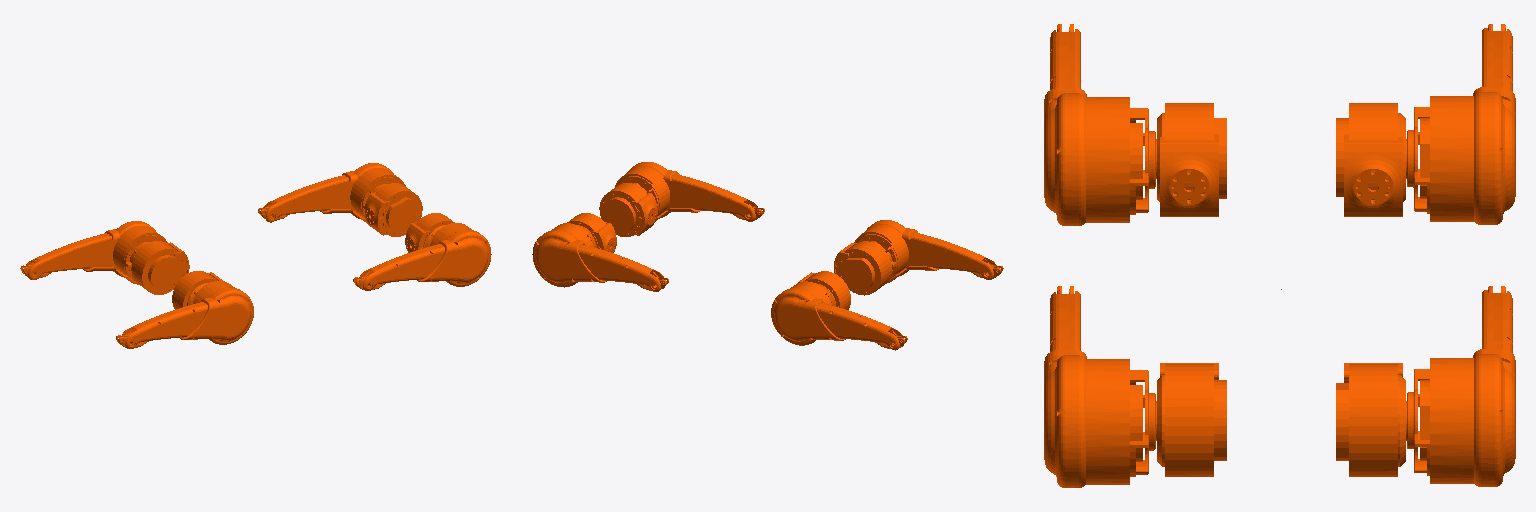
--- Render facts (derived) ---
The picture shows the robot from 3 angles, left to right: view 1: azimuth 30°, elevation 25°; view 2: azimuth 150°, elevation 25°; view 3: azimuth 270°, elevation 25°; orthographic projection.
Model jamal_description with 24 links and 23 joints (12 revolute, 11 fixed), rooted at world, posed every joint at zero.
Visible links, largest first — view 1: upper3, upper2, upper1, upper0, hip0, hip1, hip2, hip3; view 2: upper0, upper1, upper3, upper2, hip2, hip3, hip0, hip1; view 3: upper2, upper3, upper1, upper0, hip3, hip2, hip1, hip0.
Link boxes in pixels (left/top/right/bottom): upper3: left=122, top=281, right=253, bottom=348; upper2: left=359, top=223, right=491, bottom=290; upper1: left=25, top=221, right=167, bottom=284; upper0: left=263, top=163, right=405, bottom=224; hip0: left=365, top=183, right=422, bottom=236; hip1: left=131, top=241, right=189, bottom=294; hip2: left=405, top=213, right=454, bottom=252; hip3: left=172, top=271, right=224, bottom=308; upper0: left=532, top=223, right=664, bottom=291; upper1: left=771, top=281, right=903, bottom=350; upper3: left=854, top=220, right=996, bottom=283; upper2: left=615, top=162, right=757, bottom=221; hip2: left=599, top=183, right=657, bottom=236; hip3: left=834, top=241, right=891, bottom=295; hip0: left=567, top=213, right=616, bottom=252; hip1: left=798, top=271, right=850, bottom=309; upper2: left=1044, top=291, right=1155, bottom=487; upper3: left=1044, top=29, right=1155, bottom=225; upper1: left=1407, top=28, right=1515, bottom=224; upper0: left=1407, top=290, right=1515, bottom=486; hip3: left=1156, top=103, right=1226, bottom=216; hip2: left=1156, top=363, right=1226, bottom=476; hip1: left=1336, top=103, right=1406, bottom=216; hip0: left=1336, top=363, right=1406, bottom=476.
Bounding box of the posed robot: 0.8496 × 0.4102 × 0.1166 m (x, y, z).
Meshes: 5 distinct files referenced, 12 mesh visuals loaded (4 Collada DAE); not drawn: 1 (reference not matched to a file when rendering).

robot.urdf — jamal_description:
<?xml version="1.0" ?>
<!-- =================================================================================== -->
<!-- |    This document was autogenerated by xacro from robot.xacro                    | -->
<!-- |    EDITING THIS FILE BY HAND IS NOT RECOMMENDED                                 | -->
<!-- =================================================================================== -->
<robot name="jamal_description">
  <!-- offset of link and rotor locations (left front) -->
  <!-- <xacro:property name="hip_offset_x" value="0.2699"/>
    <xacro:property name="hip_offset_y" value="0.08028"/>
    <xacro:property name="hip_offset_z" value="0.0"/>
    <xacro:property name="hip_rotor_offset_x" value="0.2119"/>
    <xacro:property name="hip_rotor_offset_y" value="0.08028"/>
    <xacro:property name="hip_rotor_offset_z" value="0.0"/>

    <xacro:property name="thigh_offset_x" value="0"/>
    <xacro:property name="thigh_offset_y" value="0.10755"/>
    <xacro:property name="thigh_offset_z" value="0.0"/>
    <xacro:property name="thigh_rotor_offset_x" value="0.0"/>
    <xacro:property name="thigh_rotor_offset_y" value="-0.0295"/>
    <xacro:property name="thigh_rotor_offset_z" value="0.0"/>

    <xacro:property name="calf_offset_x" value="0.0"/>
    <xacro:property name="calf_offset_y" value="0.0"/>
    <xacro:property name="calf_offset_z" value="-0.225"/>
    <xacro:property name="calf_rotor_offset_x" value="0.0"/>
    <xacro:property name="calf_rotor_offset_y" value="0.0"/>
    <xacro:property name="calf_rotor_offset_z" value="0.0"/> -->
  <material name="black">
    <color rgba="0.0 0.0 0.0 1.0"/>
  </material>
  <material name="blue">
    <color rgba="0.0 0.0 0.8 1.0"/>
  </material>
  <material name="green">
    <color rgba="0.0 0.8 0.0 1.0"/>
  </material>
  <material name="grey">
    <color rgba="0.2 0.2 0.2 1.0"/>
  </material>
  <material name="silver">
    <color rgba="0.9137254901960784 0.9137254901960784 0.8470588235294118 1.0"/>
  </material>
  <material name="orange">
    <color rgba="1.0 0.4235294117647059 0.0392156862745098 1.0"/>
  </material>
  <material name="brown">
    <color rgba="0.8705882352941177 0.8117647058823529 0.7647058823529411 1.0"/>
  </material>
  <material name="red">
    <color rgba="0.8 0.0 0.0 1.0"/>
  </material>
  <material name="white">
    <color rgba="1.0 1.0 1.0 1.0"/>
  </material>
  <!-- ros_control plugin -->
  <gazebo>
    <plugin filename="libgazebo_ros_control.so" name="gazebo_ros_control">
      <robotNamespace>/jamal</robotNamespace>
      <robotSimType>gazebo_ros_control/DefaultRobotHWSim</robotSimType>
    </plugin>
    <plugin filename="libground_truth_estimator.so" name="ground_truth_estimator">
      <updateRateHZ>500.0</updateRateHZ>
    </plugin>
  </gazebo>
  <!-- Show the trajectory of trunk center. -->
  <!-- <gazebo>
        <plugin name="3dplot" filename="libLinkPlot3DPlugin.so">
            <frequency>10</frequency>
            <plot>
                <link>body</link>
                <pose>0 0 0 0 0 0</pose>
                <material>Gazebo/Yellow</material>
            </plot>
        </plugin>
    </gazebo> -->
  <!-- Show the trajectory of foot. You can add another trajectory about another foot. -->
  <!-- <gazebo>
        <plugin name="3dplot" filename="libLinkPlot3DPlugin.so">
            <frequency>100</frequency>
            <plot>
                <link>FL_foot</link>
                <pose>0 0 0 0 0 0</pose>
                <material>Gazebo/Green</material>
            </plot>
        </plugin>
    </gazebo> -->
  <gazebo>
    <plugin filename="libgazebo_ros_force.so" name="gazebo_ros_force">
      <bodyName>trunk</bodyName>
      <topicName>/apply_force/trunk</topicName>
    </plugin>
  </gazebo>
  <gazebo reference="imu_link">
    <gravity>true</gravity>
    <sensor name="imu_sensor" type="imu">
      <always_on>true</always_on>
      <update_rate>1000</update_rate>
      <visualize>true</visualize>
      <topic>__default_topic__</topic>
      <plugin filename="libgazebo_ros_imu_sensor.so" name="imu_plugin">
        <topicName>trunk_imu</topicName>
        <bodyName>imu_link</bodyName>
        <updateRateHZ>1000.0</updateRateHZ>
        <gaussianNoise>0.0</gaussianNoise>
        <xyzOffset>0 0 0</xyzOffset>
        <rpyOffset>0 0 0</rpyOffset>
        <frameName>imu_link</frameName>
      </plugin>
      <pose>0 0 0 0 0 0</pose>
    </sensor>
  </gazebo>
  <!-- Foot contacts. -->
  <!-- <gazebo reference="lower0">
        <sensor name="FR_foot_contact" type="contact">
        <update_rate>100</update_rate>
        <plugin name="contactPlugin" filename="libunitreeFootContactPlugin.so"/>
        <contact>
            <collision>FR_calf_fixed_joint_lump__FR_foot_collision_1</collision>
        </contact>
        </sensor>
    </gazebo>
    <gazebo reference="lower1">
        <sensor name="FL_foot_contact" type="contact">
        <update_rate>100</update_rate>
        <plugin name="contactPlugin" filename="libunitreeFootContactPlugin.so"/>
        <contact>
            <collision>FL_calf_fixed_joint_lump__FL_foot_collision_1</collision>
        </contact>
        </sensor>
    </gazebo>
    <gazebo reference="lower2">
        <sensor name="RR_foot_contact" type="contact">
        <update_rate>100</update_rate>
        <plugin name="contactPlugin" filename="libunitreeFootContactPlugin.so"/>
        <contact>
            <collision>RR_calf_fixed_joint_lump__RR_foot_collision_1</collision>
        </contact>
        </sensor>
    </gazebo>
    <gazebo reference="lower3">
        <sensor name="RL_foot_contact" type="contact">
        <update_rate>100</update_rate>
        <plugin name="contactPlugin" filename="libunitreeFootContactPlugin.so"/>
        <contact>
            <collision>RL_calf_fixed_joint_lump__RL_foot_collision_1</collision>
        </contact>
        </sensor>
    </gazebo> -->
  <gazebo reference="toe0">
    <sensor name="toe0_contact" type="contact">
      <plugin filename="libgazebo_ros_bumper.so" name="toe0_plugin">
        <alwaysOn>true</alwaysOn>
        <updateRate>500</updateRate>
        <bumperTopicName>gazebo/toe0_contact_state</bumperTopicName>
        <frameName>world</frameName>
      </plugin>
      <contact>
        <collision>toe0_collision</collision>
      </contact>
      <update_rate>500</update_rate>
    </sensor>
  </gazebo>
  <gazebo reference="toe1">
    <sensor name="toe1_contact" type="contact">
      <plugin filename="libgazebo_ros_bumper.so" name="toe1_plugin">
        <alwaysOn>true</alwaysOn>
        <updateRate>500</updateRate>
        <bumperTopicName>gazebo/toe1_contact_state</bumperTopicName>
        <frameName>world</frameName>
      </plugin>
      <contact>
        <collision>toe1_collision</collision>
      </contact>
      <update_rate>500</update_rate>
    </sensor>
  </gazebo>
  <gazebo reference="toe2">
    <sensor name="toe2_contact" type="contact">
      <plugin filename="libgazebo_ros_bumper.so" name="toe2_plugin">
        <alwaysOn>true</alwaysOn>
        <updateRate>500</updateRate>
        <bumperTopicName>gazebo/toe2_contact_state</bumperTopicName>
        <frameName>world</frameName>
      </plugin>
      <contact>
        <collision>toe2_collision</collision>
      </contact>
      <update_rate>500</update_rate>
    </sensor>
  </gazebo>
  <gazebo reference="toe3">
    <sensor name="toe3_contact" type="contact">
      <plugin filename="libgazebo_ros_bumper.so" name="toe3_plugin">
        <alwaysOn>true</alwaysOn>
        <updateRate>500</updateRate>
        <bumperTopicName>gazebo/toe3_contact_state</bumperTopicName>
        <frameName>world</frameName>
      </plugin>
      <contact>
        <collision>toe3_collision</collision>
      </contact>
      <update_rate>500</update_rate>
    </sensor>
  </gazebo>
  <!-- Visualization of Foot contacts. -->
  <!-- <gazebo reference="toe0">
        <visual>
            <plugin name="drawForcePlugin" filename="libunitreeDrawForcePlugin.so">
                <topicName>FR_foot_contact</topicName>
            </plugin>
        </visual>
    </gazebo>
    <gazebo reference="toe1">
        <visual>
            <plugin name="drawForcePlugin" filename="libunitreeDrawForcePlugin.so">
                <topicName>FL_foot_contact</topicName>
            </plugin>
        </visual>
    </gazebo>
    <gazebo reference="toe2">
        <visual>
            <plugin name="drawForcePlugin" filename="libunitreeDrawForcePlugin.so">
                <topicName>RR_foot_contact</topicName>
            </plugin>
        </visual>
    </gazebo>
    <gazebo reference="toe3">
        <visual>
            <plugin name="drawForcePlugin" filename="libunitreeDrawForcePlugin.so">
                <topicName>RL_foot_contact</topicName>
            </plugin>
        </visual>
    </gazebo> -->
  <gazebo reference="body">
    <material>Gazebo/Green</material>
    <turnGravityOff>false</turnGravityOff>
  </gazebo>
  <gazebo reference="trunk">
    <mu1>0.2</mu1>
    <mu2>0.2</mu2>
    <kp value="1000000.0"/>
    <kd value="1.0"/>
  </gazebo>
  <gazebo reference="stick_link">
    <mu1>0.2</mu1>
    <mu2>0.2</mu2>
    <material>Gazebo/White</material>
  </gazebo>
  <gazebo reference="imu_link">
    <mu1>0.2</mu1>
    <mu2>0.2</mu2>
    <material>Gazebo/Red</material>
  </gazebo>
  <!-- FL leg -->
  <gazebo reference="hip0">
    <mu1>0.2</mu1>
    <mu2>0.2</mu2>
    <material>Gazebo/DarkGrey</material>
  </gazebo>
  <gazebo reference="upper0">
    <mu1>0.2</mu1>
    <mu2>0.2</mu2>
    <self_collide>0</self_collide>
    <material>Gazebo/DarkGrey</material>
    <kp value="1000000.0"/>
    <kd value="1.0"/>
  </gazebo>
  <gazebo reference="lower0">
    <mu1>0.2</mu1>
    <mu2>0.2</mu2>
    <self_collide>0</self_collide>
  </gazebo>
  <gazebo reference="toe0">
    <mu1>0.6</mu1>
    <mu2>0.6</mu2>
    <self_collide>0</self_collide>
    <material>Gazebo/DarkGrey</material>
    <kp value="1000000.0"/>
    <kd value="1.0"/>
  </gazebo>
  <!-- RL leg -->
  <gazebo reference="hip1">
    <mu1>0.2</mu1>
    <mu2>0.2</mu2>
    <material>Gazebo/DarkGrey</material>
  </gazebo>
  <gazebo reference="upper1">
    <mu1>0.2</mu1>
    <mu2>0.2</mu2>
    <self_collide>0</self_collide>
    <material>Gazebo/DarkGrey</material>
    <kp value="1000000.0"/>
    <kd value="1.0"/>
  </gazebo>
  <gazebo reference="lower1">
    <mu1>0.2</mu1>
    <mu2>0.2</mu2>
    <self_collide>0</self_collide>
  </gazebo>
  <gazebo reference="toe1">
    <mu1>0.6</mu1>
    <mu2>0.6</mu2>
    <self_collide>0</self_collide>
    <material>Gazebo/DarkGrey</material>
    <kp value="1000000.0"/>
    <kd value="1.0"/>
  </gazebo>
  <!-- FR leg -->
  <gazebo reference="hip2">
    <mu1>0.2</mu1>
    <mu2>0.2</mu2>
    <material>Gazebo/DarkGrey</material>
  </gazebo>
  <gazebo reference="upper2">
    <mu1>0.2</mu1>
    <mu2>0.2</mu2>
    <self_collide>0</self_collide>
    <material>Gazebo/DarkGrey</material>
    <kp value="1000000.0"/>
    <kd value="1.0"/>
  </gazebo>
  <gazebo reference="lower2">
    <mu1>0.2</mu1>
    <mu2>0.2</mu2>
    <self_collide>0</self_collide>
  </gazebo>
  <gazebo reference="toe2">
    <mu1>0.6</mu1>
    <mu2>0.6</mu2>
    <self_collide>0</self_collide>
    <material>Gazebo/DarkGrey</material>
    <kp value="1000000.0"/>
    <kd value="1.0"/>
  </gazebo>
  <!-- RR leg -->
  <gazebo reference="hip3">
    <mu1>0.2</mu1>
    <mu2>0.2</mu2>
    <material>Gazebo/DarkGrey</material>
  </gazebo>
  <gazebo reference="upper3">
    <mu1>0.2</mu1>
    <mu2>0.2</mu2>
    <self_collide>0</self_collide>
    <material>Gazebo/DarkGrey</material>
    <kp value="1000000.0"/>
    <kd value="1.0"/>
  </gazebo>
  <gazebo reference="lower3">
    <mu1>0.2</mu1>
    <mu2>0.2</mu2>
    <self_collide>0</self_collide>
  </gazebo>
  <gazebo reference="toe3">
    <mu1>0.6</mu1>
    <mu2>0.6</mu2>
    <self_collide>0</self_collide>
    <material>Gazebo/DarkGrey</material>
    <kp value="1000000.0"/>
    <kd value="1.0"/>
  </gazebo>
  <link name="world"/>
  <joint name="base_static_joint" type="fixed">
    <origin rpy="0 0 0" xyz="0 0 0"/>
    <parent link="world"/>
    <child link="body"/>
  </joint>
  <link name="body">
    <visual>
      <origin rpy="0 0 0" xyz="0 0 0"/>
      <geometry>
        <box size="0.001 0.001 0.001"/>
      </geometry>
    </visual>
  </link>
  <joint name="floating_base" type="fixed">
    <origin rpy="0 0 0" xyz="0 0 0"/>
    <parent link="body"/>
    <child link="trunk"/>
  </joint>
  <link name="trunk">
    <visual name="body_visual">
      <origin rpy="0 0 0" xyz="0 0 0"/>
      <geometry>
        <mesh filename="package://jamal_description/meshes/trunk.dae" scale="1 1 1"/>
      </geometry>
      <material name="orange"/>
    </visual>
    <collision name="body_collision">
      <origin rpy="0 0 0" xyz="0 0 0"/>
      <geometry>
        <box size="0.3762 0.0935 0.114"/>
      </geometry>
    </collision>
    <inertial>
      <origin rpy="0 0 0" xyz="0 0 0.0"/>
      <mass value="12.8185384756311"/>
      <inertia ixx="0.0565667940678376" ixy="-8.54731557026013e-06" ixz="3.411601276539e-05" iyy="0.0364645326398335" iyz="-4.86965244292946e-06" izz="0.0737588756462406"/>
    </inertial>
  </link>
  <joint name="imu_joint" type="fixed">
    <parent link="trunk"/>
    <child link="imu_link"/>
    <origin rpy="0 0 0" xyz="0 0 0"/>
  </joint>
  <link name="imu_link">
    <inertial>
      <mass value="0.001"/>
      <origin rpy="0 0 0" xyz="0 0 0"/>
      <inertia ixx="0.0001" ixy="0" ixz="0" iyy="0.0001" iyz="0" izz="0.0001"/>
    </inertial>
    <visual>
      <origin rpy="0 0 0" xyz="0 0 0"/>
      <geometry>
        <box size="0.001 0.001 0.001"/>
      </geometry>
      <material name="red"/>
    </visual>
    <collision>
      <origin rpy="0 0 0" xyz="0 0 0"/>
      <geometry>
        <box size=".001 .001 .001"/>
      </geometry>
    </collision>
  </link>
  <link name="hip0">
    <visual name="hip0_visual">
      <origin rpy="0 0 0" xyz="0 0 0"/>
      <geometry>
        <mesh filename="package://jamal_description/meshes/hip.dae" scale="1 1 1"/>
      </geometry>
      <material name="orange"/>
    </visual>
    <collision name="hip0_collision">
      <origin rpy="1.5707963267948966 0 0" xyz="0 0 0"/>
      <geometry>
        <cylinder length="0.04" radius="0.046"/>
      </geometry>
    </collision>
    <inertial>
      <origin rpy="0 0 0" xyz="0.0 0.0 0.0"/>
      <mass value="0.933762854916433"/>
      <inertia ixx="0.000832273911083319" ixy="2.01742652907359e-06" ixz="-9.96248193966734e-07" iyy="0.00106512043176046" iyz="-3.27660400510853e-06" izz="0.000803680416601427"/>
    </inertial>
  </link>
  <joint name="8" type="revolute">
    <origin rpy="0 0 0" xyz="0.2699 0.08028 0"/>
    <parent link="trunk"/>
    <child link="hip0"/>
    <axis xyz="1 0 0"/>
    <dynamics damping="0.01" friction="0.2"/>
    <limit effort="48" lower="-0.4363323129985824" upper="0.4363323129985824" velocity="8"/>
  </joint>
  <!-- this link is only for collision -->
  <link name="thigh_shoulder0">
    <collision>
      <origin rpy="1.5707963267948966 0 0" xyz="0 0 0"/>
      <geometry>
        <cylinder length="0.032" radius="0.041"/>
      </geometry>
    </collision>
  </link>
  <joint name="hip0_fixed" type="fixed">
    <origin rpy="0 0 0" xyz="0 0.016 0"/>
    <parent link="hip0"/>
    <child link="thigh_shoulder0"/>
  </joint>
  <link name="upper0">
    <visual name="upper0_visual">
      <origin rpy="0 0 0" xyz="0 0 0"/>
      <geometry>
        <mesh filename="package://jamal_description/meshes/thigh.dae" scale="1 1 1"/>
      </geometry>
      <material name="orange"/>
    </visual>
    <collision name="upper0_collision">
      <origin rpy="0 1.5707963267948966 0" xyz="0 0 -0.1125"/>
      <geometry>
        <box size="0.225 0.0245 0.034"/>
      </geometry>
    </collision>
    <inertial>
      <origin rpy="0 0 0" xyz="0.0 0.0 0.0"/>
      <mass value="1.32134262348697"/>
      <inertia ixx="0.00262880898900224" ixy="3.0753036678596e-07" ixz="-6.6121911239445e-05" iyy="0.00316091750463634" iyz="4.01609105247509e-05" izz="0.00121962195056961"/>
    </inertial>
  </link>
  <joint name="0" type="revolute">
    <origin rpy="0 1.5707963267948966 0" xyz="0 0.10755 0"/>
    <parent link="hip0"/>
    <child link="upper0"/>
    <axis xyz="0 -1 0"/>
    <dynamics damping="0.01" friction="0.2"/>
    <limit effort="48" lower="-1.5707963267948966" upper="1.5707963267948966" velocity="8"/>
  </joint>
  <link name="lower0">
    <visual name="lower0_visual">
      <origin rpy="0 0 0" xyz="0 0 0"/>
      <geometry>
        <mesh filename="package://jamal_description/meshes/calf.dae" scale="1 1 1"/>
      </geometry>
      <material name="orange"/>
    </visual>
    <collision name="lower0_collision">
      <origin rpy="0 1.5707963267948966 0" xyz="0 0 -0.125"/>
      <geometry>
        <box size="0.25 0.016 0.016"/>
      </geometry>
    </collision>
    <inertial>
      <origin rpy="0 0 0" xyz="0.0 0.0 0.0"/>
      <mass value="0.12879265462489"/>
      <inertia ixx="0.000445341853265945" ixy="-7.71823686634482e-09" ixz="7.55836697902452e-05" iyy="0.000465686753688402" iyz="4.84096470394828e-09" izz="2.34278965180016e-05"/>
    </inertial>
  </link>
  <joint name="1" type="revolute">
    <origin rpy="0 -3.141592653589793 0" xyz="0 0 -0.225"/>
    <parent link="upper0"/>
    <child link="lower0"/>
    <axis xyz="0 1 0"/>
    <dynamics damping="0.01" friction="0.2"/>
    <limit effort="48" lower="-2.670353755551324" upper="2.670353755551324" velocity="8"/>
  </joint>
  <link name="toe0">
    <visual name="toe0_visual">
      <origin rpy="0 0 0" xyz="0 0 0"/>
      <geometry>
        <sphere radius="0.007000000000000001"/>
      </geometry>
      <material name="orange"/>
    </visual>
    <collision name="toe0_collision">
      <origin rpy="0 0 0" xyz="0 0 0"/>
      <geometry>
        <sphere radius="0.017"/>
      </geometry>
      <surface>
        <bounce>
          <restitution_coefficient>0</restitution_coefficient>
          <threshold>1e+06</threshold>
        </bounce>
        <friction>
          <ode>
            <mu>0.2</mu>
            <mu2>0.2</mu2>
          </ode>
          <bullet>
            <rolling_friction>0.3</rolling_friction>
            <friction2>50</friction2>
          </bullet>
        </friction>
        <contact>
          <ode>
            <kp>30000.0</kp>
            <kd>1000.0</kd>
          </ode>
          <bullet>
            <kp>30000.0</kp>
            <kd>1000.0</kd>
            <split_impulse>1</split_impulse>
            <split_impulse_penetration_threshold>-0.01</split_impulse_penetration_threshold>
          </bullet>
        </contact>
      </surface>
    </collision>
    <inertial>
      <mass value="0.06"/>
      <inertia ixx="6.936000000000001e-06" ixy="0.0" ixz="0.0" iyy="6.936000000000001e-06" iyz="0.0" izz="6.936000000000001e-06"/>
    </inertial>
  </link>
  <joint name="jtoe0" type="fixed">
    <origin rpy="0 0 0" xyz="0 0 -0.25"/>
    <parent link="lower0"/>
    <child link="toe0"/>
  </joint>
  <transmission name="transmission_8">
    <type>transmission_interface/SimpleTransmission</type>
    <joint name="8">
      <hardwareInterface>hardware_interface/EffortJointInterface</hardwareInterface>
    </joint>
    <actuator name="motor_8">
      <hardwareInterface>EffortJointInterface</hardwareInterface>
      <mechanicalReduction>1</mechanicalReduction>
    </actuator>
  </transmission>
  <transmission name="transmission_0">
    <type>transmission_interface/SimpleTransmission</type>
    <joint name="0">
      <hardwareInterface>hardware_interface/EffortJointInterface</hardwareInterface>
    </joint>
    <actuator name="motor_0">
      <hardwareInterface>EffortJointInterface</hardwareInterface>
      <mechanicalReduction>1</mechanicalReduction>
    </actuator>
  </transmission>
  <transmission name="transmission_1">
    <type>transmission_interface/SimpleTransmission</type>
    <joint name="1">
      <hardwareInterface>hardware_interface/EffortJointInterface</hardwareInterface>
    </joint>
    <actuator name="motor_1">
      <hardwareInterface>EffortJointInterface</hardwareInterface>
      <mechanicalReduction>1</mechanicalReduction>
    </actuator>
  </transmission>
  <link name="hip1">
    <visual name="hip1_visual">
      <origin rpy="0 3.141592653589793 0" xyz="0 0 0"/>
      <geometry>
        <mesh filename="package://jamal_description/meshes/hip.dae" scale="1 1 1"/>
      </geometry>
      <material name="orange"/>
    </visual>
    <collision name="hip1_collision">
      <origin rpy="1.5707963267948966 0 0" xyz="0 0 0"/>
      <geometry>
        <cylinder length="0.04" radius="0.046"/>
      </geometry>
    </collision>
    <inertial>
      <origin rpy="0 0 0" xyz="-0.0 0.0 0.0"/>
      <mass value="0.933762854916433"/>
      <inertia ixx="0.000832273911083319" ixy="-2.01742652907359e-06" ixz="9.96248193966734e-07" iyy="0.00106512043176046" iyz="-3.27660400510853e-06" izz="0.000803680416601427"/>
    </inertial>
  </link>
  <joint name="9" type="revolute">
    <origin rpy="0 0 0" xyz="-0.2699 0.08028 0"/>
    <parent link="trunk"/>
    <child link="hip1"/>
    <axis xyz="1 0 0"/>
    <dynamics damping="0.01" friction="0.2"/>
    <limit effort="48" lower="-0.4363323129985824" upper="0.4363323129985824" velocity="8"/>
  </joint>
  <!-- this link is only for collision -->
  <link name="thigh_shoulder1">
    <collision>
      <origin rpy="1.5707963267948966 0 0" xyz="0 0 0"/>
      <geometry>
        <cylinder length="0.032" radius="0.041"/>
      </geometry>
    </collision>
  </link>
  <joint name="hip1_fixed" type="fixed">
    <origin rpy="0 0 0" xyz="0 0.016 0"/>
    <parent link="hip1"/>
    <child link="thigh_shoulder1"/>
  </joint>
  <link name="upper1">
    <visual name="upper1_visual">
      <origin rpy="0 0 0" xyz="0 0 0"/>
      <geometry>
        <mesh filename="package://jamal_description/meshes/thigh.dae" scale="1 1 1"/>
      </geometry>
      <material name="orange"/>
    </visual>
    <collision name="upper1_collision">
      <origin rpy="0 1.5707963267948966 0" xyz="0 0 -0.1125"/>
      <geometry>
        <box size="0.225 0.0245 0.034"/>
      </geometry>
    </collision>
    <inertial>
      <origin rpy="0 0 0" xyz="0.0 0.0 0.0"/>
      <mass value="1.32134262348697"/>
      <inertia ixx="0.00262880898900224" ixy="3.0753036678596e-07" ixz="-6.6121911239445e-05" iyy="0.00316091750463634" iyz="4.01609105247509e-05" izz="0.00121962195056961"/>
    </inertial>
  </link>
  <joint name="2" type="revolute">
    <origin rpy="0 1.5707963267948966 0" xyz="0 0.10755 0"/>
    <parent link="hip1"/>
    <child link="upper1"/>
    <axis xyz="0 -1 0"/>
    <dynamics damping="0.01" friction="0.2"/>
    <limit effort="48" lower="-1.5707963267948966" upper="1.5707963267948966" velocity="8"/>
  </joint>
  <link name="lower1">
    <visual name="lower1_visual">
      <origin rpy="0 0 0" xyz="0 0 0"/>
      <geometry>
        <mesh filename="package://jamal_description/meshes/calf.dae" scale="1 1 1"/>
      </geometry>
      <material name="orange"/>
    </visual>
    <collision name="lower1_collision">
      <origin rpy="0 1.5707963267948966 0" xyz="0 0 -0.125"/>
      <geometry>
        <box size="0.25 0.016 0.016"/>
      </geometry>
    </collision>
    <inertial>
      <origin rpy="0 0 0" xyz="0.0 0.0 0.0"/>
      <mass value="0.12879265462489"/>
      <inertia ixx="0.000445341853265945" ixy="-7.71823686634482e-09" ixz="7.55836697902452e-05" iyy="0.000465686753688402" iyz="4.84096470394828e-09" izz="2.34278965180016e-05"/>
    </inertial>
  </link>
  <joint name="3" type="revolute">
    <origin rpy="0 -3.141592653589793 0" xyz="0 0 -0.225"/>
    <parent link="upper1"/>
    <child link="lower1"/>
    <axis xyz="0 1 0"/>
    <dynamics damping="0.01" friction="0.2"/>
    <limit effort="48" lower="-2.670353755551324" upper="2.670353755551324" velocity="8"/>
  </joint>
  <link name="toe1">
    <visual name="toe1_visual">
      <origin rpy="0 0 0" xyz="0 0 0"/>
      <geometry>
        <sphere radius="0.007000000000000001"/>
      </geometry>
      <material name="orange"/>
    </visual>
    <collision name="toe1_collision">
      <origin rpy="0 0 0" xyz="0 0 0"/>
      <geometry>
        <sphere radius="0.017"/>
      </geometry>
      <surface>
        <bounce>
          <restitution_coefficient>0</restitution_coefficient>
          <threshold>1e+06</threshold>
        </bounce>
        <friction>
          <ode>
            <mu>0.2</mu>
            <mu2>0.2</mu2>
          </ode>
          <bullet>
            <rolling_friction>0.3</rolling_friction>
            <friction2>50</friction2>
          </bullet>
        </friction>
        <contact>
          <ode>
            <kp>30000.0</kp>
            <kd>1000.0</kd>
          </ode>
          <bullet>
            <kp>30000.0</kp>
            <kd>1000.0</kd>
            <split_impulse>1</split_impulse>
            <split_impulse_penetration_threshold>-0.01</split_impulse_penetration_threshold>
          </bullet>
        </contact>
      </surface>
    </collision>
    <inertial>
      <mass value="0.06"/>
      <inertia ixx="6.936000000000001e-06" ixy="0.0" ixz="0.0" iyy="6.936000000000001e-06" iyz="0.0" izz="6.936000000000001e-06"/>
    </inertial>
  </link>
  <joint name="jtoe1" type="fixed">
    <origin rpy="0 0 0" xyz="0 0 -0.25"/>
    <parent link="lower1"/>
    <child link="toe1"/>
  </joint>
  <transmission name="transmission_9">
    <type>transmission_interface/SimpleTransmission</type>
    <joint name="9">
      <hardwareInterface>hardware_interface/EffortJointInterface</hardwareInterface>
    </joint>
    <actuator name="motor_9">
      <hardwareInterface>EffortJointInterface</hardwareInterface>
      <mechanicalReduction>1</mechanicalReduction>
    </actuator>
  </transmission>
  <transmission name="transmission_2">
    <type>transmission_interface/SimpleTransmission</type>
    <joint name="2">
      <hardwareInterface>hardware_interface/EffortJointInterface</hardwareInterface>
    </joint>
    <actuator name="motor_2">
      <hardwareInterface>EffortJointInterface</hardwareInterface>
      <mechanicalReduction>1</mechanicalReduction>
    </actuator>
  </transmission>
  <transmission name="transmission_3">
    <type>transmission_interface/SimpleTransmission</type>
    <joint name="3">
      <hardwareInterface>hardware_interface/EffortJointInterface</hardwareInterface>
    </joint>
    <actuator name="motor_3">
      <hardwareInterface>EffortJointInterface</hardwareInterface>
      <mechanicalReduction>1</mechanicalReduction>
    </actuator>
  </transmission>
  <link name="hip2">
    <visual name="hip2_visual">
      <origin rpy="3.141592653589793 0 0" xyz="0 0 0"/>
      <geometry>
        <mesh filename="package://jamal_description/meshes/hip.dae" scale="1 1 1"/>
      </geometry>
      <material name="orange"/>
    </visual>
    <collision name="hip2_collision">
      <origin rpy="1.5707963267948966 0 0" xyz="0 0 0"/>
      <geometry>
        <cylinder length="0.04" radius="0.046"/>
      </geometry>
    </collision>
    <inertial>
      <origin rpy="0 0 0" xyz="0.0 -0.0 0.0"/>
      <mass value="0.933762854916433"/>
      <inertia ixx="0.000832273911083319" ixy="-2.01742652907359e-06" ixz="-9.96248193966734e-07" iyy="0.00106512043176046" iyz="3.27660400510853e-06" izz="0.000803680416601427"/>
    </inertial>
  </link>
  <joint name="10" type="revolute">
    <origin rpy="0 0 0" xyz="0.2699 -0.08028 0"/>
    <parent link="trunk"/>
    <child link="hip2"/>
    <axis xyz="1 0 0"/>
    <dynamics damping="0.01" friction="0.2"/>
    <limit effort="48" lower="-0.4363323129985824" upper="0.4363323129985824" velocity="8"/>
  </joint>
  <!-- this link is only for collision -->
  <link name="thigh_shoulder2">
    <collision>
      <origin rpy="1.5707963267948966 0 0" xyz="0 0 0"/>
      <geometry>
        <cylinder length="0.032" radius="0.041"/>
      </geometry>
    </collision>
  </link>
  <joint name="hip2_fixed" type="fixed">
    <origin rpy="0 0 0" xyz="0 -0.016 0"/>
    <parent link="hip2"/>
    <child link="thigh_shoulder2"/>
  </joint>
  <link name="upper2">
    <visual name="upper2_visual">
      <origin rpy="0 0 0" xyz="0 0 0"/>
      <geometry>
        <mesh filename="package://jamal_description/meshes/thigh_mirror.dae" scale="1 1 1"/>
      </geometry>
      <material name="orange"/>
    </visual>
    <collision name="upper2_collision">
      <origin rpy="0 1.5707963267948966 0" xyz="0 0 -0.1125"/>
      <geometry>
        <box size="0.225 0.0245 0.034"/>
      </geometry>
    </collision>
    <inertial>
      <origin rpy="0 0 0" xyz="0.0 -0.0 0.0"/>
      <mass value="1.32134262348697"/>
      <inertia ixx="0.00262880898900224" ixy="-3.0753036678596e-07" ixz="-6.6121911239445e-05" iyy="0.00316091750463634" iyz="-4.01609105247509e-05" izz="0.00121962195056961"/>
    </inertial>
  </link>
  <joint name="4" type="revolute">
    <origin rpy="0 1.5707963267948966 0" xyz="0 -0.10755 0"/>
    <parent link="hip2"/>
    <child link="upper2"/>
    <axis xyz="0 -1 0"/>
    <dynamics damping="0.01" friction="0.2"/>
    <limit effort="48" lower="-1.5707963267948966" upper="1.5707963267948966" velocity="8"/>
  </joint>
  <link name="lower2">
    <visual name="lower2_visual">
      <origin rpy="0 0 0" xyz="0 0 0"/>
      <geometry>
        <mesh filename="package://jamal_description/meshes/calf.dae" scale="1 1 1"/>
      </geometry>
      <material name="orange"/>
    </visual>
    <collision name="lower2_collision">
      <origin rpy="0 1.5707963267948966 0" xyz="0 0 -0.125"/>
      <geometry>
        <box size="0.25 0.016 0.016"/>
      </geometry>
    </collision>
    <inertial>
      <origin rpy="0 0 0" xyz="0.0 0.0 0.0"/>
      <mass value="0.12879265462489"/>
      <inertia ixx="0.000445341853265945" ixy="-7.71823686634482e-09" ixz="7.55836697902452e-05" iyy="0.000465686753688402" iyz="4.84096470394828e-09" izz="2.34278965180016e-05"/>
    </inertial>
  </link>
  <joint name="5" type="revolute">
    <origin rpy="0 -3.141592653589793 0" xyz="0 0 -0.225"/>
    <parent link="upper2"/>
    <child link="lower2"/>
    <axis xyz="0 1 0"/>
    <dynamics damping="0.01" friction="0.2"/>
    <limit effort="48" lower="-2.670353755551324" upper="2.670353755551324" velocity="8"/>
  </joint>
  <link name="toe2">
    <visual name="toe2_visual">
      <origin rpy="0 0 0" xyz="0 0 0"/>
      <geometry>
        <sphere radius="0.007000000000000001"/>
      </geometry>
      <material name="orange"/>
    </visual>
    <collision name="toe2_collision">
      <origin rpy="0 0 0" xyz="0 0 0"/>
      <geometry>
        <sphere radius="0.017"/>
      </geometry>
      <surface>
        <bounce>
          <restitution_coefficient>0</restitution_coefficient>
          <threshold>1e+06</threshold>
        </bounce>
        <friction>
          <ode>
            <mu>0.2</mu>
            <mu2>0.2</mu2>
          </ode>
          <bullet>
            <rolling_friction>0.3</rolling_friction>
            <friction2>50</friction2>
          </bullet>
        </friction>
        <contact>
          <ode>
            <kp>30000.0</kp>
            <kd>1000.0</kd>
          </ode>
          <bullet>
            <kp>30000.0</kp>
            <kd>1000.0</kd>
            <split_impulse>1</split_impulse>
            <split_impulse_penetration_threshold>-0.01</split_impulse_penetration_threshold>
          </bullet>
        </contact>
      </surface>
    </collision>
    <inertial>
      <mass value="0.06"/>
      <inertia ixx="6.936000000000001e-06" ixy="0.0" ixz="0.0" iyy="6.936000000000001e-06" iyz="0.0" izz="6.936000000000001e-06"/>
    </inertial>
  </link>
  <joint name="jtoe2" type="fixed">
    <origin rpy="0 0 0" xyz="0 0 -0.25"/>
    <parent link="lower2"/>
    <child link="toe2"/>
  </joint>
  <transmission name="transmission_10">
    <type>transmission_interface/SimpleTransmission</type>
    <joint name="10">
      <hardwareInterface>hardware_interface/EffortJointInterface</hardwareInterface>
    </joint>
    <actuator name="motor_10">
      <hardwareInterface>EffortJointInterface</hardwareInterface>
      <mechanicalReduction>1</mechanicalReduction>
    </actuator>
  </transmission>
  <transmission name="transmission_4">
    <type>transmission_interface/SimpleTransmission</type>
    <joint name="4">
      <hardwareInterface>hardware_interface/EffortJointInterface</hardwareInterface>
    </joint>
    <actuator name="motor_4">
      <hardwareInterface>EffortJointInterface</hardwareInterface>
      <mechanicalReduction>1</mechanicalReduction>
    </actuator>
  </transmission>
  <transmission name="transmission_5">
    <type>transmission_interface/SimpleTransmission</type>
    <joint name="5">
      <hardwareInterface>hardware_interface/EffortJointInterface</hardwareInterface>
    </joint>
    <actuator name="motor_5">
      <hardwareInterface>EffortJointInterface</hardwareInterface>
      <mechanicalReduction>1</mechanicalReduction>
    </actuator>
  </transmission>
  <link name="hip3">
    <visual name="hip3_visual">
      <origin rpy="3.141592653589793 3.141592653589793 0" xyz="0 0 0"/>
      <geometry>
        <mesh filename="package://jamal_description/meshes/hip.dae" scale="1 1 1"/>
      </geometry>
      <material name="orange"/>
    </visual>
    <collision name="hip3_collision">
      <origin rpy="1.5707963267948966 0 0" xyz="0 0 0"/>
      <geometry>
        <cylinder length="0.04" radius="0.046"/>
      </geometry>
    </collision>
    <inertial>
      <origin rpy="0 0 0" xyz="-0.0 -0.0 0.0"/>
      <mass value="0.933762854916433"/>
      <inertia ixx="0.000832273911083319" ixy="2.01742652907359e-06" ixz="9.96248193966734e-07" iyy="0.00106512043176046" iyz="3.27660400510853e-06" izz="0.000803680416601427"/>
    </inertial>
  </link>
  <joint name="11" type="revolute">
    <origin rpy="0 0 0" xyz="-0.2699 -0.08028 0"/>
    <parent link="trunk"/>
    <child link="hip3"/>
    <axis xyz="1 0 0"/>
    <dynamics damping="0.01" friction="0.2"/>
    <limit effort="48" lower="-0.4363323129985824" upper="0.4363323129985824" velocity="8"/>
  </joint>
  <!-- this link is only for collision -->
  <link name="thigh_shoulder3">
    <collision>
      <origin rpy="1.5707963267948966 0 0" xyz="0 0 0"/>
      <geometry>
        <cylinder length="0.032" radius="0.041"/>
      </geometry>
    </collision>
  </link>
  <joint name="hip3_fixed" type="fixed">
    <origin rpy="0 0 0" xyz="0 -0.016 0"/>
    <parent link="hip3"/>
    <child link="thigh_shoulder3"/>
  </joint>
  <link name="upper3">
    <visual name="upper3_visual">
      <origin rpy="0 0 0" xyz="0 0 0"/>
      <geometry>
        <mesh filename="package://jamal_description/meshes/thigh_mirror.dae" scale="1 1 1"/>
      </geometry>
      <material name="orange"/>
    </visual>
    <collision name="upper3_collision">
      <origin rpy="0 1.5707963267948966 0" xyz="0 0 -0.1125"/>
      <geometry>
        <box size="0.225 0.0245 0.034"/>
      </geometry>
    </collision>
    <inertial>
      <origin rpy="0 0 0" xyz="0.0 -0.0 0.0"/>
      <mass value="1.32134262348697"/>
      <inertia ixx="0.00262880898900224" ixy="-3.0753036678596e-07" ixz="-6.6121911239445e-05" iyy="0.00316091750463634" iyz="-4.01609105247509e-05" izz="0.00121962195056961"/>
    </inertial>
  </link>
  <joint name="6" type="revolute">
    <origin rpy="0 1.5707963267948966 0" xyz="0 -0.10755 0"/>
    <parent link="hip3"/>
    <child link="upper3"/>
    <axis xyz="0 -1 0"/>
    <dynamics damping="0.01" friction="0.2"/>
    <limit effort="48" lower="-1.5707963267948966" upper="1.5707963267948966" velocity="8"/>
  </joint>
  <link name="lower3">
    <visual name="lower3_visual">
      <origin rpy="0 0 0" xyz="0 0 0"/>
      <geometry>
        <mesh filename="package://jamal_description/meshes/calf.dae" scale="1 1 1"/>
      </geometry>
      <material name="orange"/>
    </visual>
    <collision name="lower3_collision">
      <origin rpy="0 1.5707963267948966 0" xyz="0 0 -0.125"/>
      <geometry>
        <box size="0.25 0.016 0.016"/>
      </geometry>
    </collision>
    <inertial>
      <origin rpy="0 0 0" xyz="0.0 0.0 0.0"/>
      <mass value="0.12879265462489"/>
      <inertia ixx="0.000445341853265945" ixy="-7.71823686634482e-09" ixz="7.55836697902452e-05" iyy="0.000465686753688402" iyz="4.84096470394828e-09" izz="2.34278965180016e-05"/>
    </inertial>
  </link>
  <joint name="7" type="revolute">
    <origin rpy="0 -3.141592653589793 0" xyz="0 0 -0.225"/>
    <parent link="upper3"/>
    <child link="lower3"/>
    <axis xyz="0 1 0"/>
    <dynamics damping="0.01" friction="0.2"/>
    <limit effort="48" lower="-2.670353755551324" upper="2.670353755551324" velocity="8"/>
  </joint>
  <link name="toe3">
    <visual name="toe3_visual">
      <origin rpy="0 0 0" xyz="0 0 0"/>
      <geometry>
        <sphere radius="0.007000000000000001"/>
      </geometry>
      <material name="orange"/>
    </visual>
    <collision name="toe3_collision">
      <origin rpy="0 0 0" xyz="0 0 0"/>
      <geometry>
        <sphere radius="0.017"/>
      </geometry>
      <surface>
        <bounce>
          <restitution_coefficient>0</restitution_coefficient>
          <threshold>1e+06</threshold>
        </bounce>
        <friction>
          <ode>
            <mu>0.2</mu>
            <mu2>0.2</mu2>
          </ode>
          <bullet>
            <rolling_friction>0.3</rolling_friction>
            <friction2>50</friction2>
          </bullet>
        </friction>
        <contact>
          <ode>
            <kp>30000.0</kp>
            <kd>1000.0</kd>
          </ode>
          <bullet>
            <kp>30000.0</kp>
            <kd>1000.0</kd>
            <split_impulse>1</split_impulse>
            <split_impulse_penetration_threshold>-0.01</split_impulse_penetration_threshold>
          </bullet>
        </contact>
      </surface>
    </collision>
    <inertial>
      <mass value="0.06"/>
      <inertia ixx="6.936000000000001e-06" ixy="0.0" ixz="0.0" iyy="6.936000000000001e-06" iyz="0.0" izz="6.936000000000001e-06"/>
    </inertial>
  </link>
  <joint name="jtoe3" type="fixed">
    <origin rpy="0 0 0" xyz="0 0 -0.25"/>
    <parent link="lower3"/>
    <child link="toe3"/>
  </joint>
  <transmission name="transmission_11">
    <type>transmission_interface/SimpleTransmission</type>
    <joint name="11">
      <hardwareInterface>hardware_interface/EffortJointInterface</hardwareInterface>
    </joint>
    <actuator name="motor_11">
      <hardwareInterface>EffortJointInterface</hardwareInterface>
      <mechanicalReduction>1</mechanicalReduction>
    </actuator>
  </transmission>
  <transmission name="transmission_6">
    <type>transmission_interface/SimpleTransmission</type>
    <joint name="6">
      <hardwareInterface>hardware_interface/EffortJointInterface</hardwareInterface>
    </joint>
    <actuator name="motor_6">
      <hardwareInterface>EffortJointInterface</hardwareInterface>
      <mechanicalReduction>1</mechanicalReduction>
    </actuator>
  </transmission>
  <transmission name="transmission_7">
    <type>transmission_interface/SimpleTransmission</type>
    <joint name="7">
      <hardwareInterface>hardware_interface/EffortJointInterface</hardwareInterface>
    </joint>
    <actuator name="motor_7">
      <hardwareInterface>EffortJointInterface</hardwareInterface>
      <mechanicalReduction>1</mechanicalReduction>
    </actuator>
  </transmission>
</robot>
